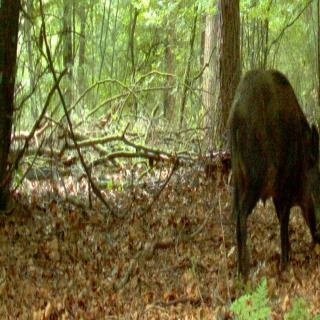Pig: (210, 47, 320, 280)
